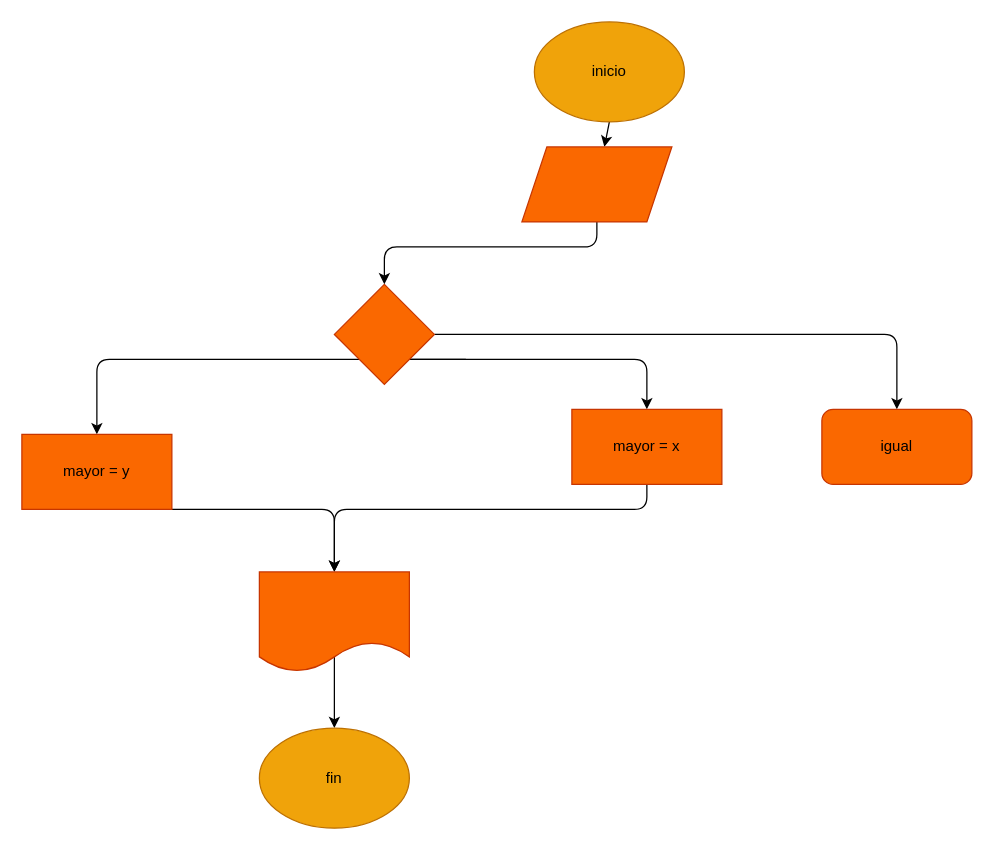
The diagram is 994 pixels wide and 850 high, and some of its shapes have lost their labels. Here are the shapes that lost their labels. From the top down, the centre of each, then its label:
At pixel 596 184: "x,y".
At pixel 383 333: "x>y".
At pixel 333 621: "mayor".
